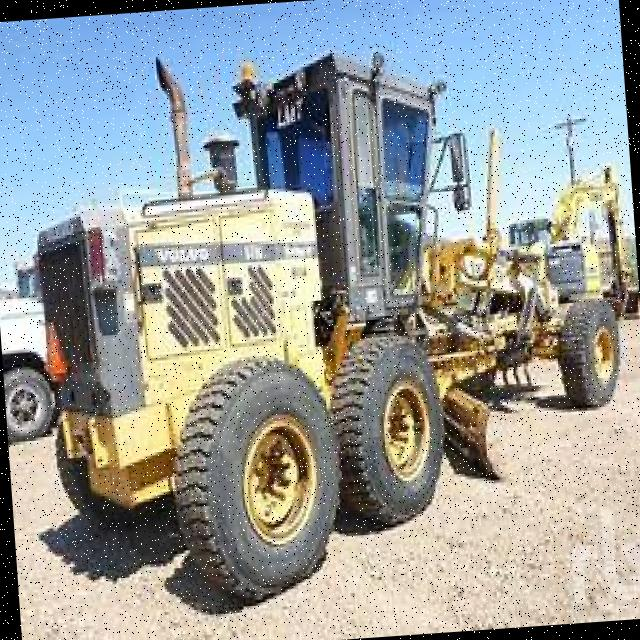Grader: (18, 1, 640, 613)
